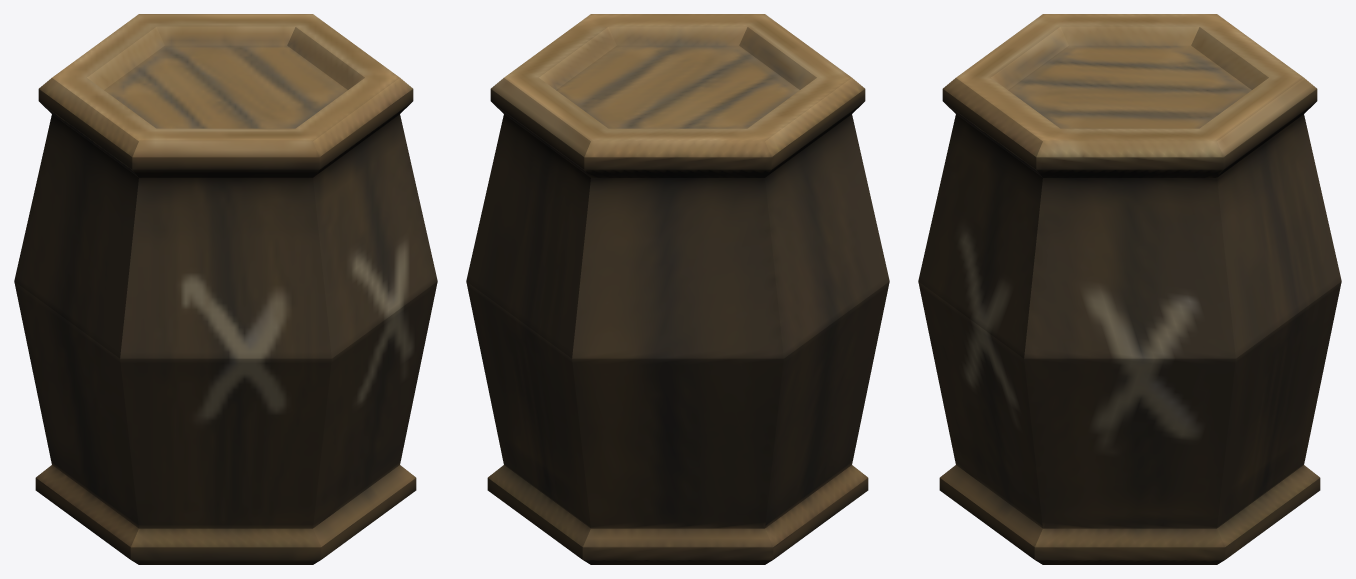
The model's file is resource_whiskey.fbx.
3 views of the same model, side by side, from view 1: azimuth 30°, elevation 25°; view 2: azimuth 150°, elevation 25°; view 3: azimuth 270°, elevation 25° (orthographic).
Visible parts, largest first — view 1: Whiskey; view 2: Whiskey; view 3: Whiskey.
Boxes of the visible parts, bbox=[...] form: Whiskey: bbox=[14, 14, 437, 564]; Whiskey: bbox=[466, 14, 889, 564]; Whiskey: bbox=[918, 14, 1341, 564].
Bounding box in the file's own units: 0.0023 × 0.00294 × 0.00266.
